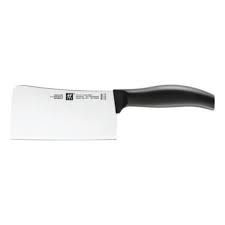knife: (7, 83, 216, 143)
